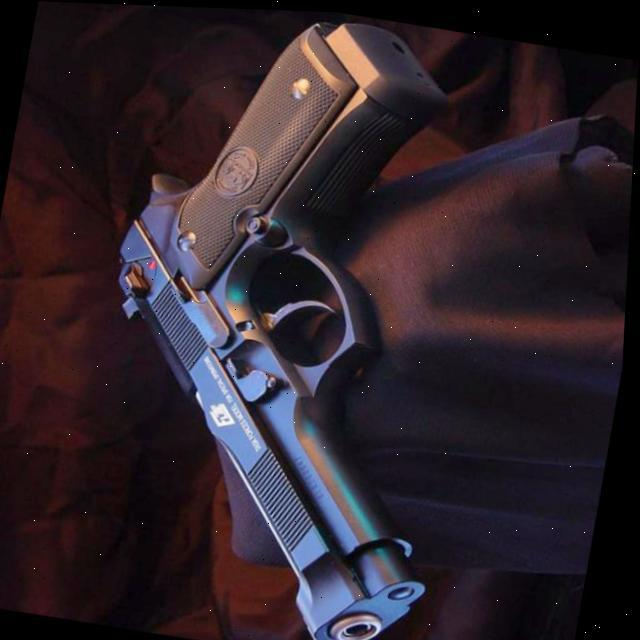gun: (58, 2, 516, 640)
